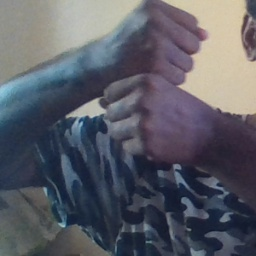G: (95, 1, 211, 167)
